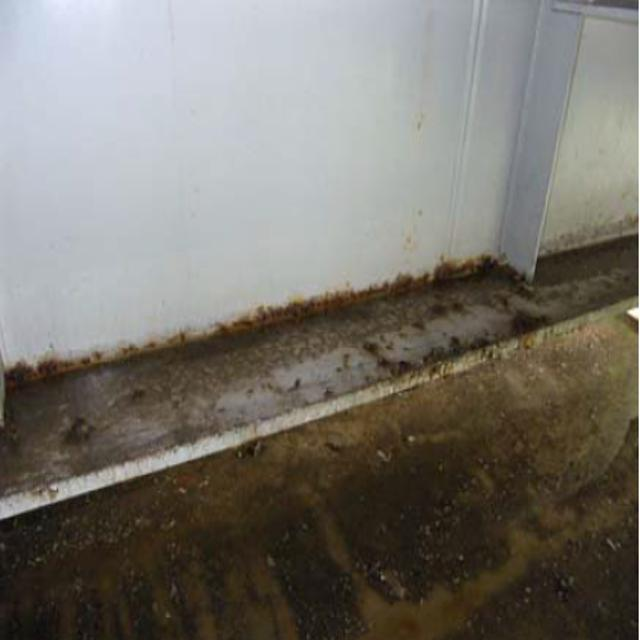corrosion: (6, 243, 551, 478)
